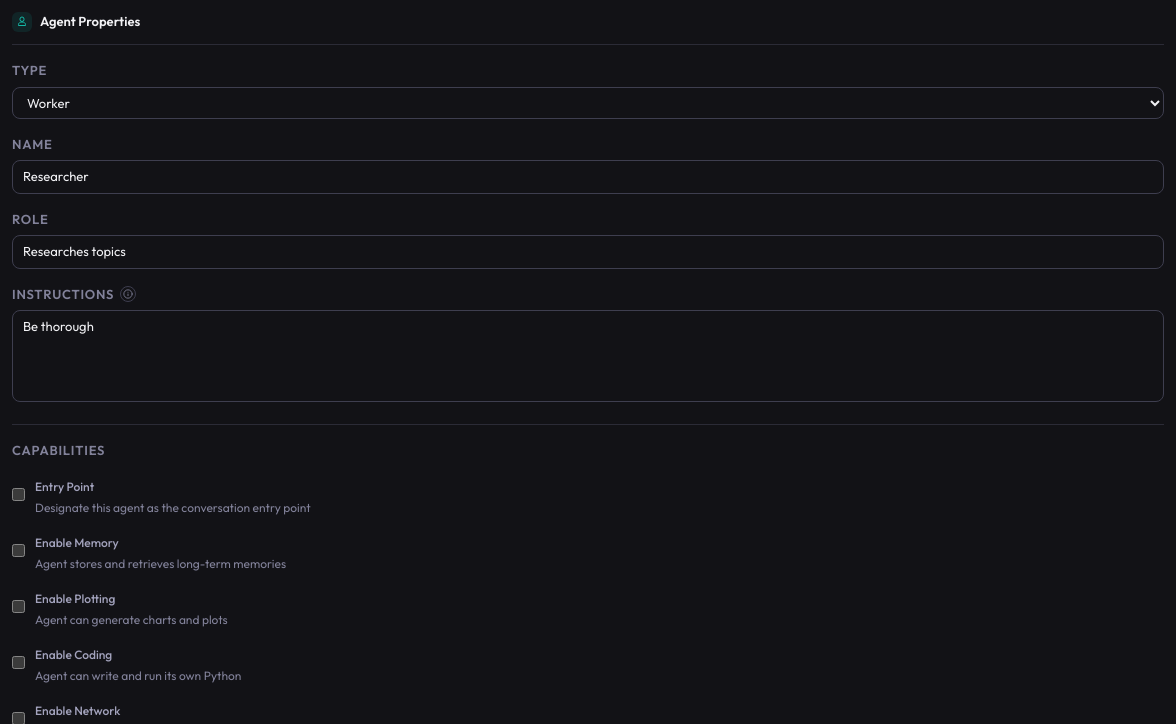
Test: AgentEditor › does not show coding toggle for router agents
Expected: the checkbox with test id "agent-enable-coding" is shown, [12,656,25,669]
Select "Router" in the dropdown with test id "agent-type-select" at coordinates (588, 102), box [12,86,1164,118]
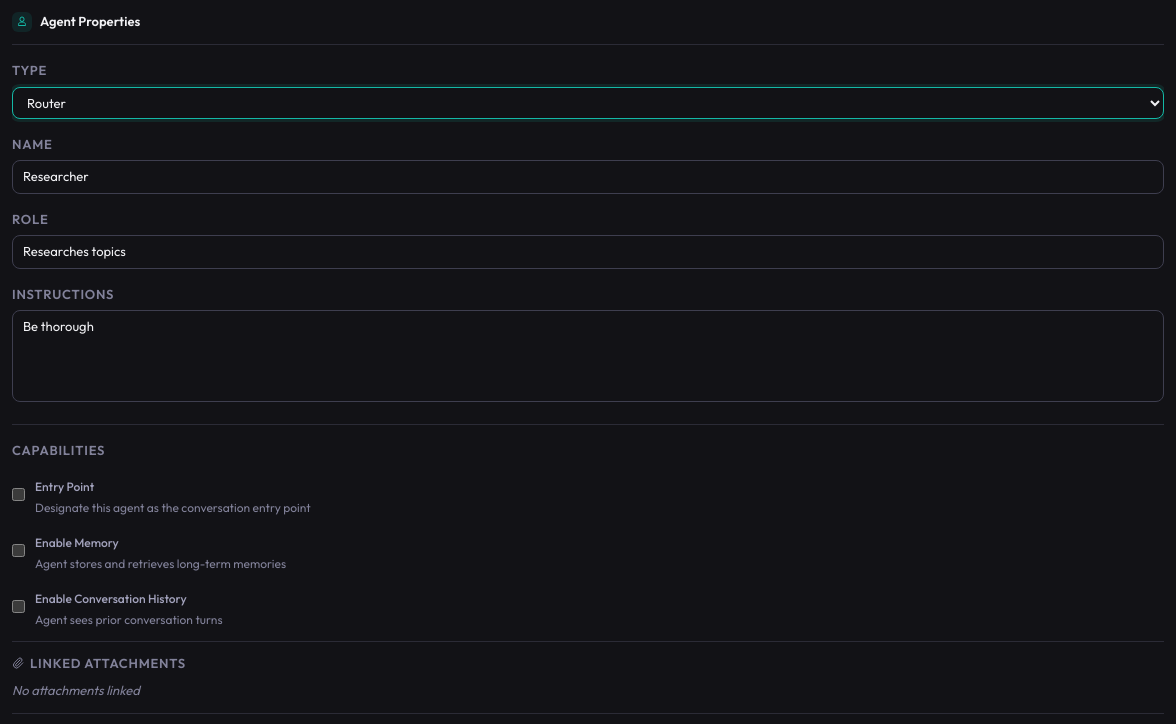
Result: the checkbox with test id "agent-enable-coding" is gone
